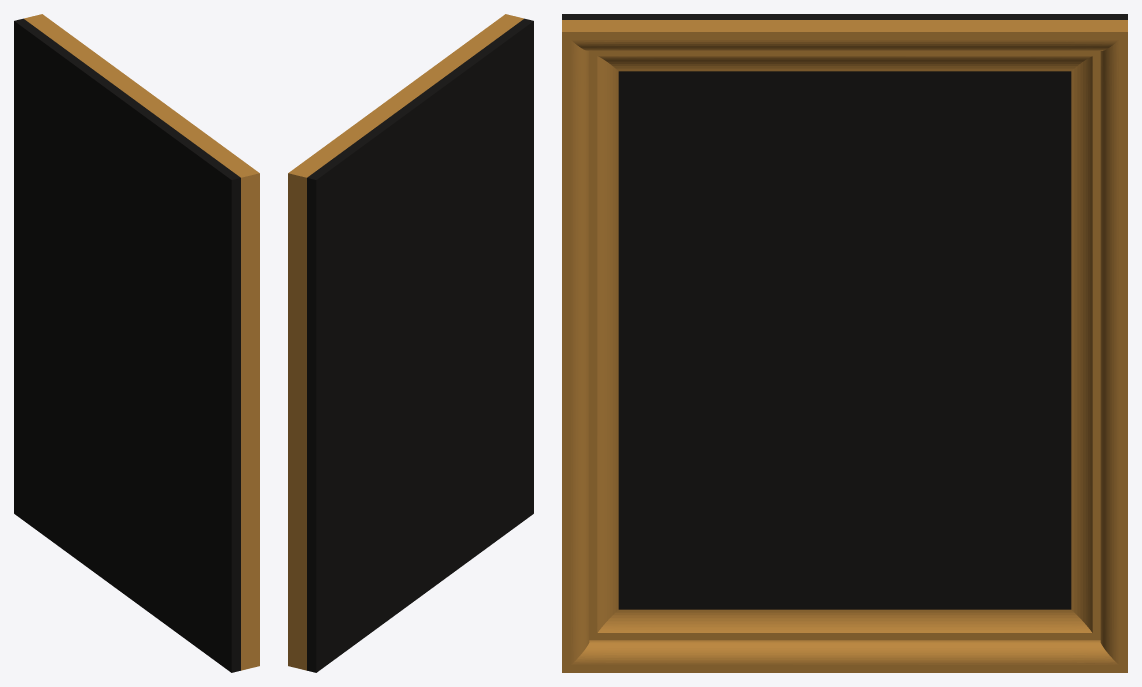
File: photoframe3.glb
The picture shows the model from 3 angles, left to right: view 1: azimuth 30°, elevation 25°; view 2: azimuth 150°, elevation 25°; view 3: azimuth 270°, elevation 25°; orthographic projection. The views are drawn at different scales.
Visible parts, largest first — view 1: frame.001_3, back panel.001_2; view 2: frame.001_3, back panel.001_2; view 3: frame.001_3, back panel.001_2.
Part boxes in pixels (left/top/right/bottom): frame.001_3: left=14, top=18, right=240, bottom=672; back panel.001_2: left=24, top=14, right=259, bottom=670; frame.001_3: left=307, top=18, right=533, bottom=672; back panel.001_2: left=288, top=14, right=523, bottom=670; frame.001_3: left=562, top=14, right=1127, bottom=609; back panel.001_2: left=562, top=20, right=1127, bottom=672.
Bounding box in the file's own units: 15 × 250 × 200.
